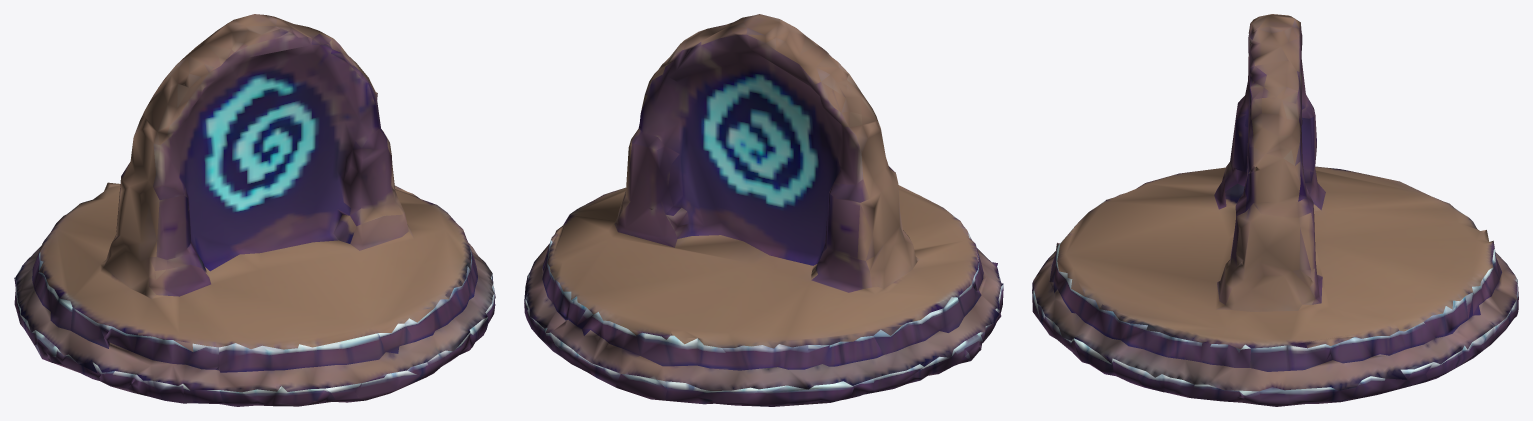
The model's file is portal.glb.
3 views of the same model, side by side, from view 1: azimuth 30°, elevation 25°; view 2: azimuth 150°, elevation 25°; view 3: azimuth 270°, elevation 25° (orthographic).
Visible parts, largest first — view 1: tmp1aeohjq2.ply; view 2: tmp1aeohjq2.ply; view 3: tmp1aeohjq2.ply.
Part boxes in pixels (bbox=[...]): tmp1aeohjq2.ply: bbox=[14, 14, 495, 406]; tmp1aeohjq2.ply: bbox=[524, 14, 1003, 406]; tmp1aeohjq2.ply: bbox=[1032, 14, 1518, 406].
Bounding box in the file's own units: 1.93 × 1.26 × 1.94.
Materials: 1 (1 with a texture image).
